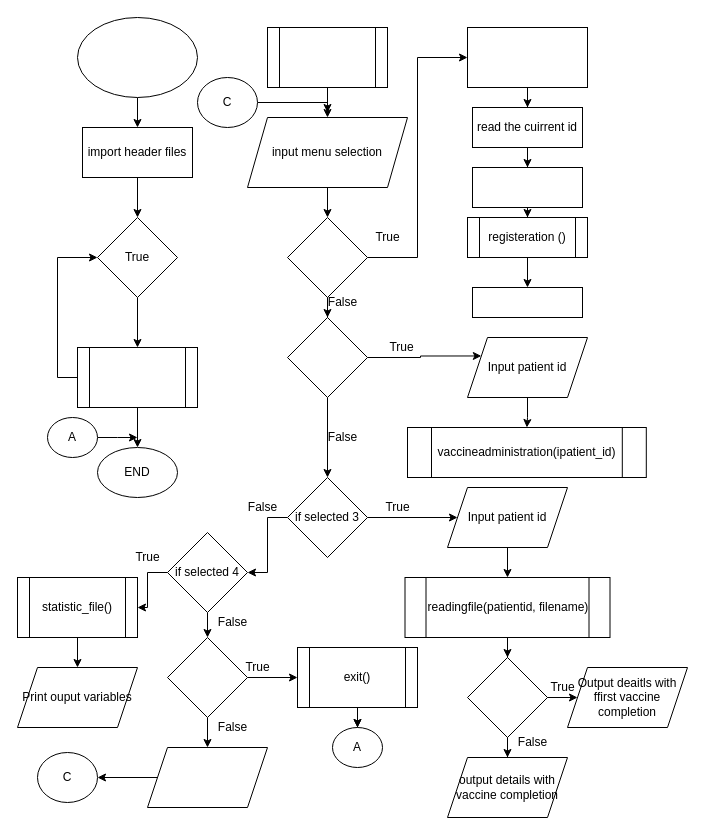
Image size: 705x835. Some labels were removed from this diagram. Each missing label, with the centre of its shape:
"If firstdoseid" belongs at (507,697).
"if selected 1" belongs at (327,257).
"if selected 2" belongs at (327,357).
"if selected 5" belongs at (207,677).
"increase the number by 1" belongs at (527,187).
"Menu" belongs at (327,57).
"Menu()" belongs at (137,377).
"open id generated file in r+ mode" belongs at (527,57).
"START" belongs at (137,57).
"update the patients.txt file" belongs at (527,302).
"Wrong input try again" belongs at (207,777).
